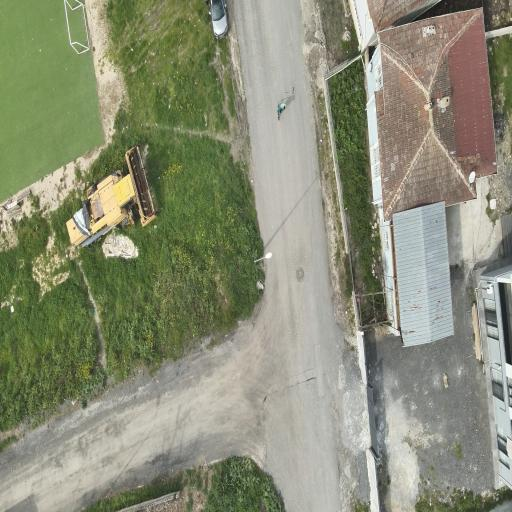car: (210, 0, 227, 38)
harvester: (66, 146, 156, 246)
person: (277, 103, 284, 119), (277, 105, 280, 119)
